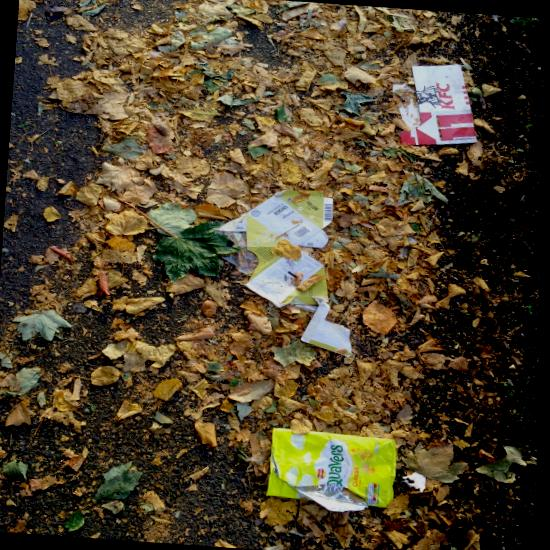Cigarette: (289, 94, 299, 106), (265, 544, 283, 550)
Crisp packet: (266, 427, 396, 511)
Meal carton: (216, 189, 352, 356), (392, 64, 476, 145)
Plastic film: (213, 230, 258, 272)
Unlabeled litter: (402, 471, 426, 492)
